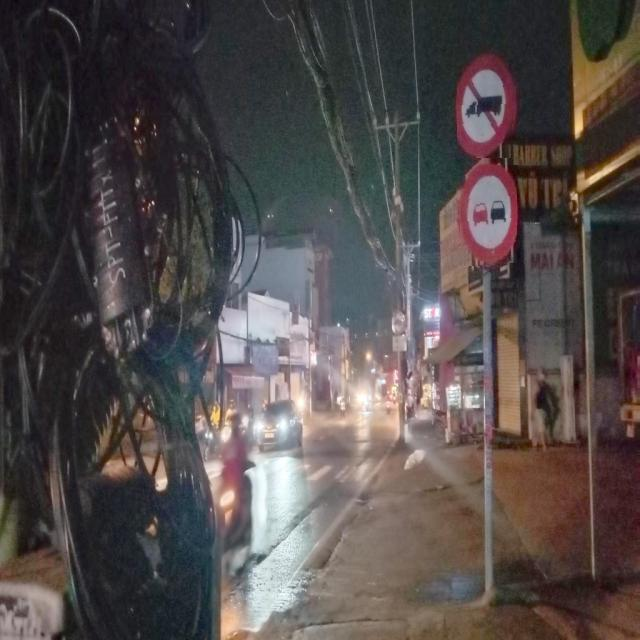cam_o_to_tai: (392, 308, 405, 334)
cam_o_to_tai_trong_luong_qua_10t: (457, 56, 516, 158)
cam_vuot: (457, 165, 517, 267)
